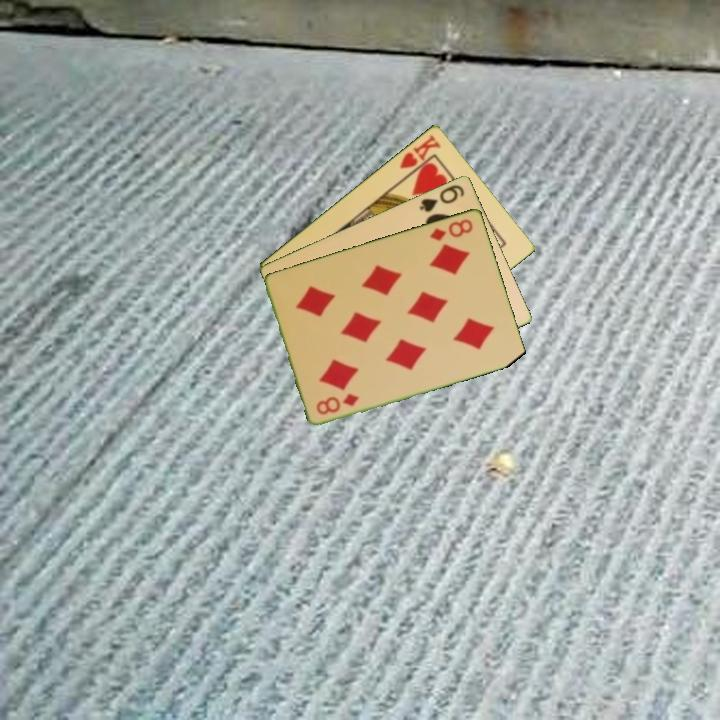6s: (416, 181, 467, 215)
8d: (427, 215, 476, 244), (313, 389, 362, 417)
Kh: (396, 130, 444, 180)
